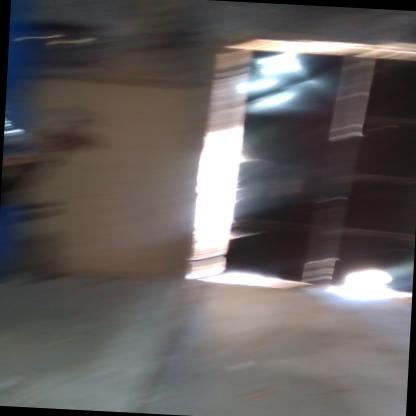closed: (196, 14, 415, 299)
